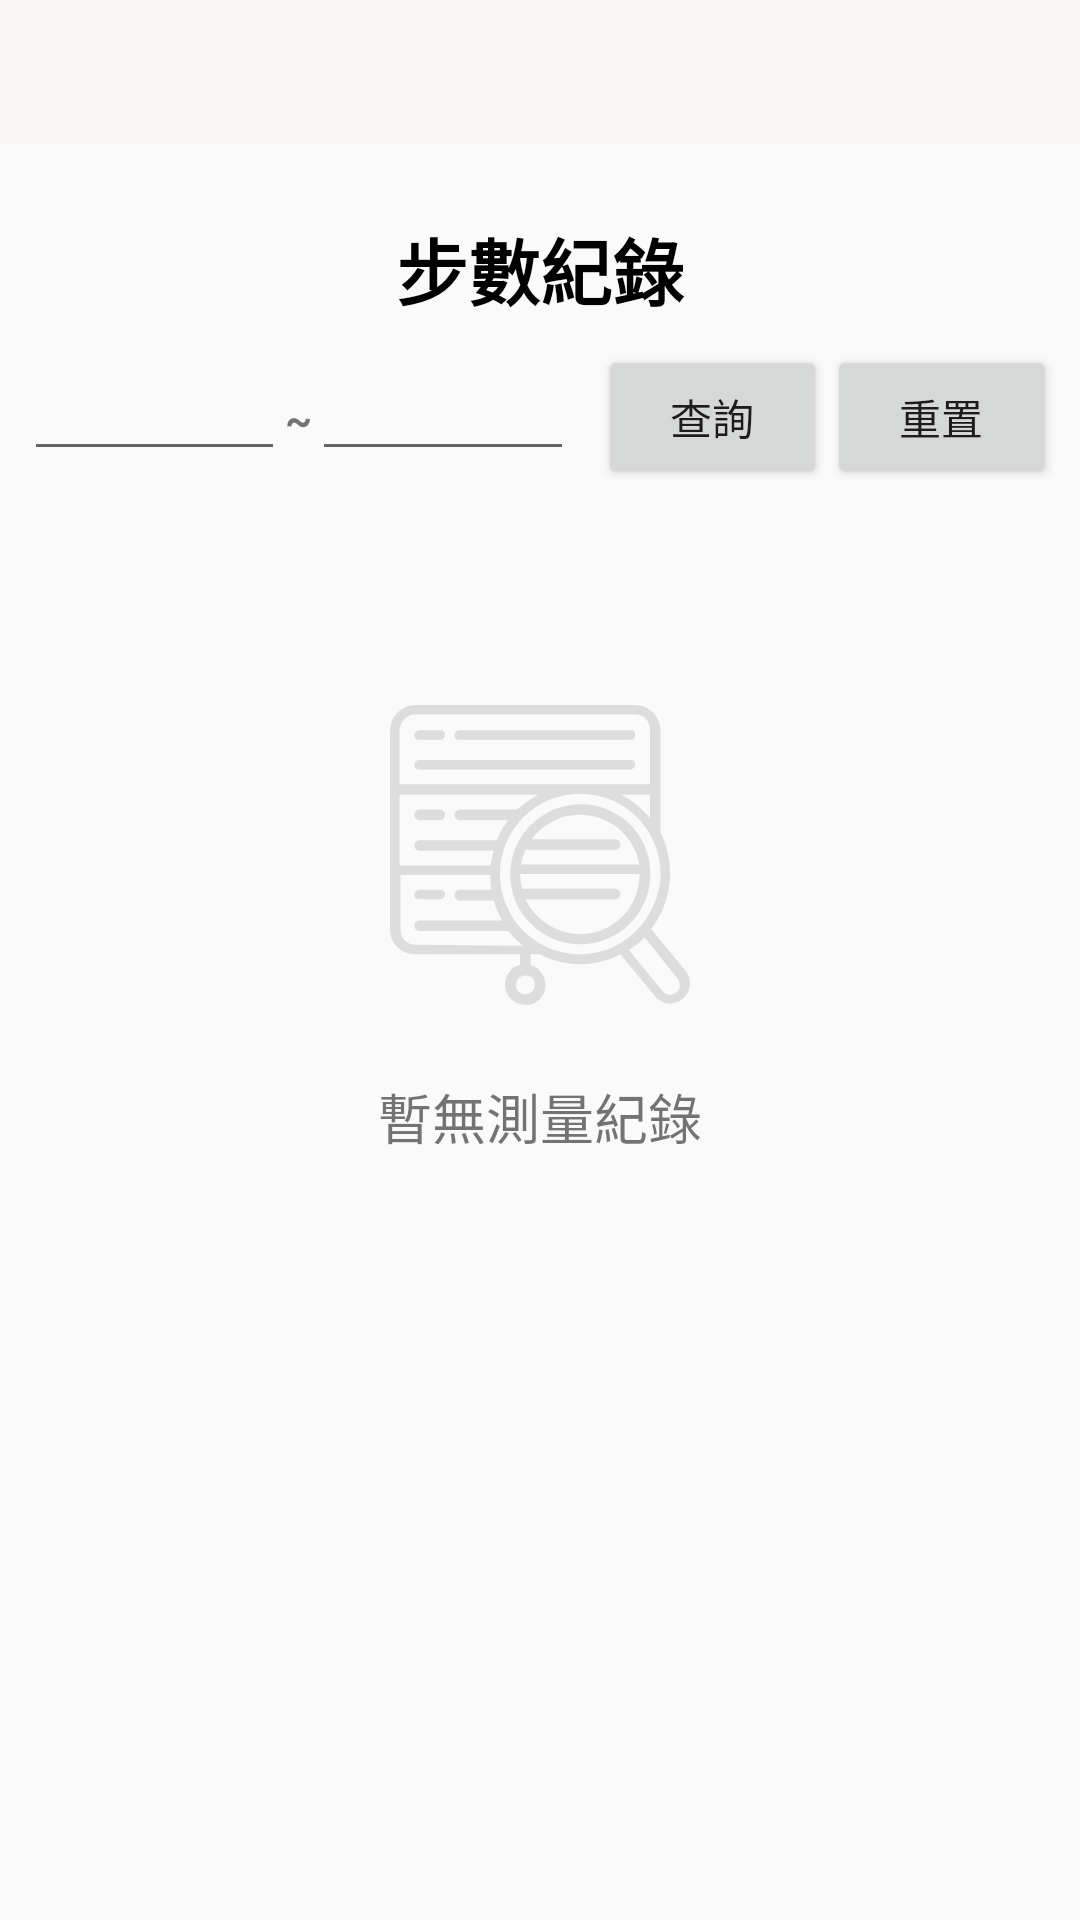

Named icons in this screenshot (1080px×1920px) and their bounding boxes, (x1, y1, x2, y2):
data searching: (390, 705, 690, 1005)
